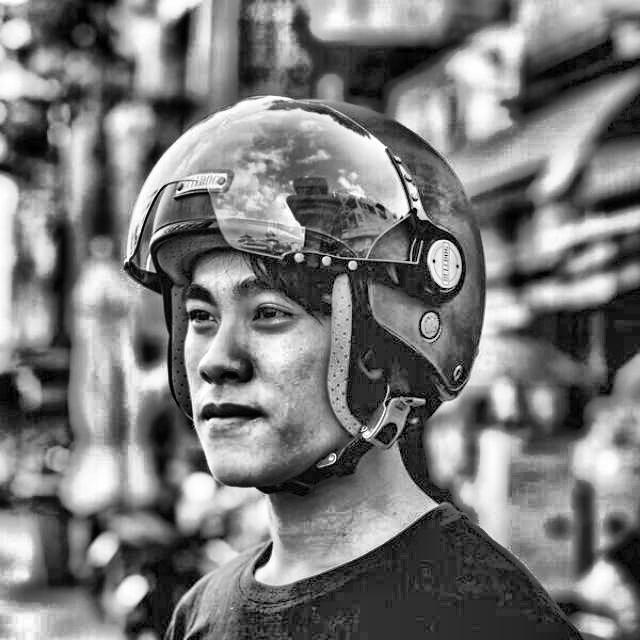Helmet: (114, 84, 494, 506)
